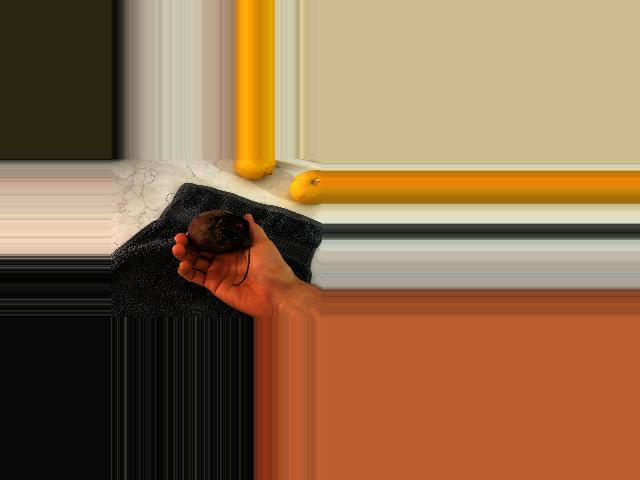beet: (186, 209, 247, 285)
